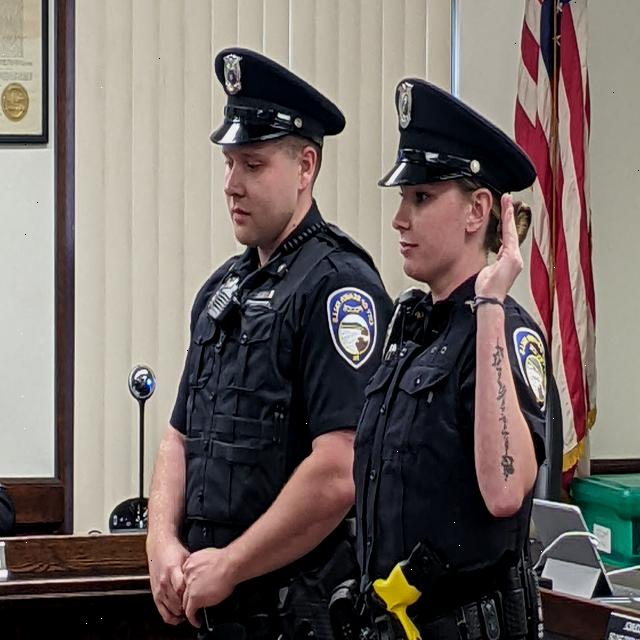police: (141, 41, 382, 640), (354, 73, 554, 640)
